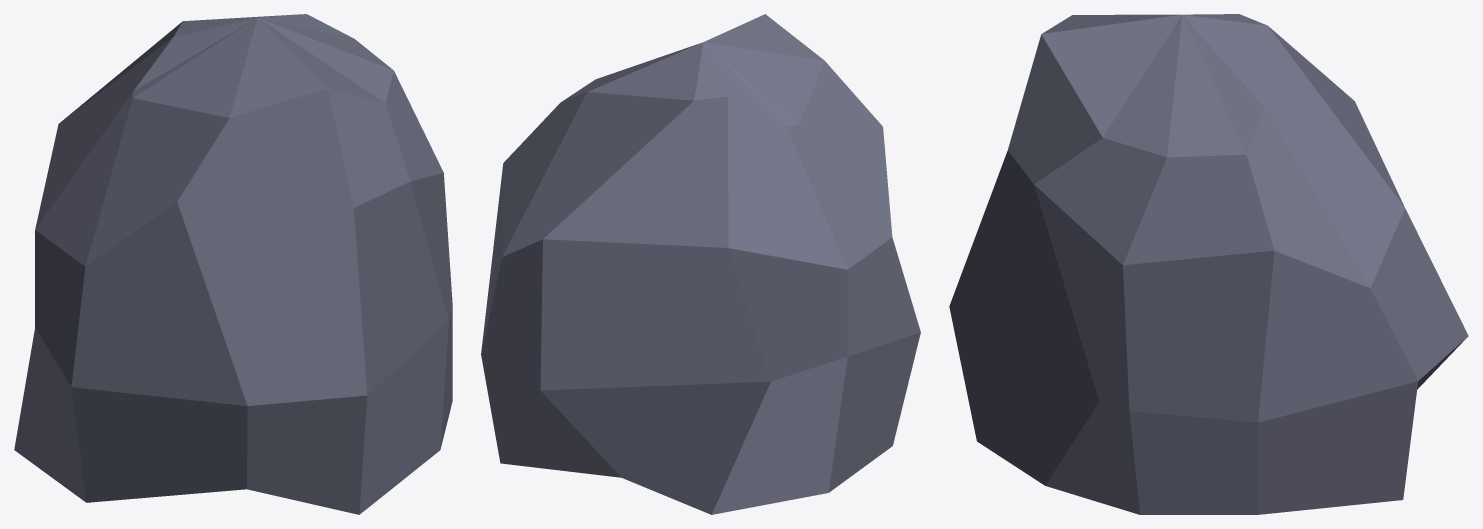
The model's file is Steen hoog4.fbx.
3 renders of one model, left to right at view 1: azimuth 30°, elevation 25°; view 2: azimuth 150°, elevation 25°; view 3: azimuth 270°, elevation 25°, orthographic. The views are drawn at different scales.
Parts seen in each view (by area): view 1: Sphere.001; view 2: Sphere.001; view 3: Sphere.001.
Boxes of the visible parts, x1=… form: Sphere.001: x1=14, y1=14, x2=452, y2=514; Sphere.001: x1=481, y1=14, x2=920, y2=514; Sphere.001: x1=949, y1=14, x2=1468, y2=514.
Bounding box in the file's own units: 113 × 112 × 123.
